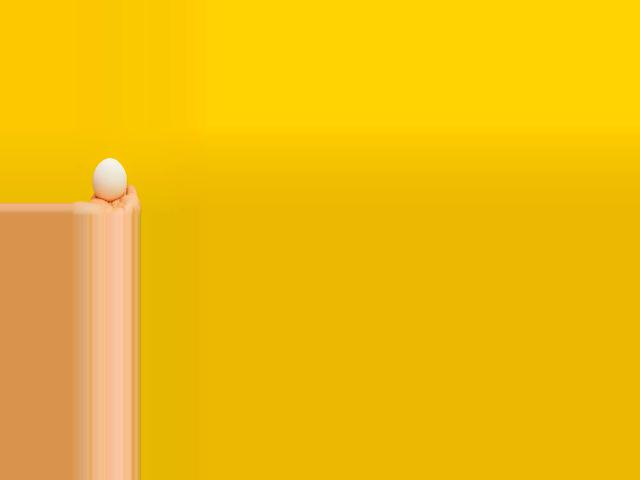egg: (94, 158, 127, 201)
